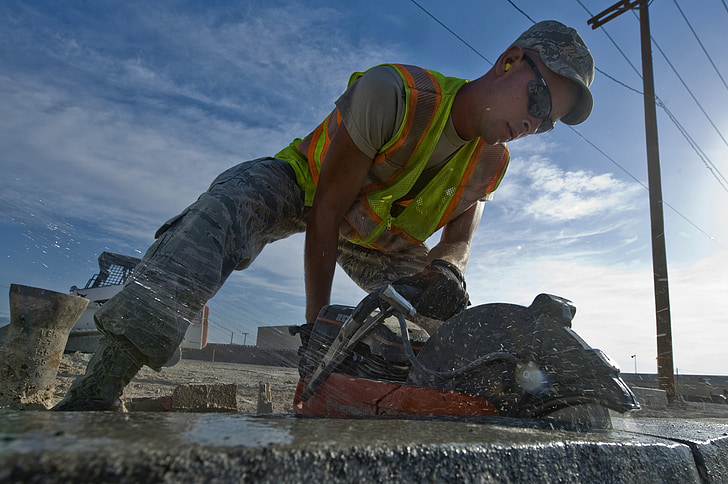Person: (49, 25, 597, 411)
Vest: (263, 38, 577, 258)
